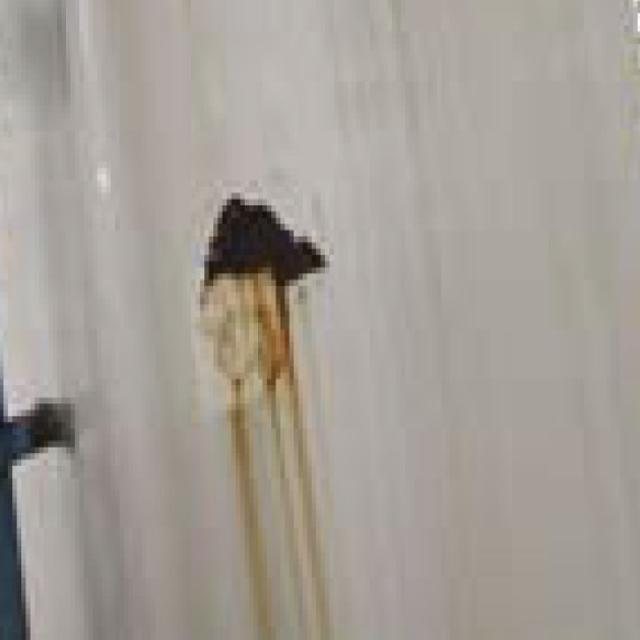leakage: (179, 164, 324, 640)
